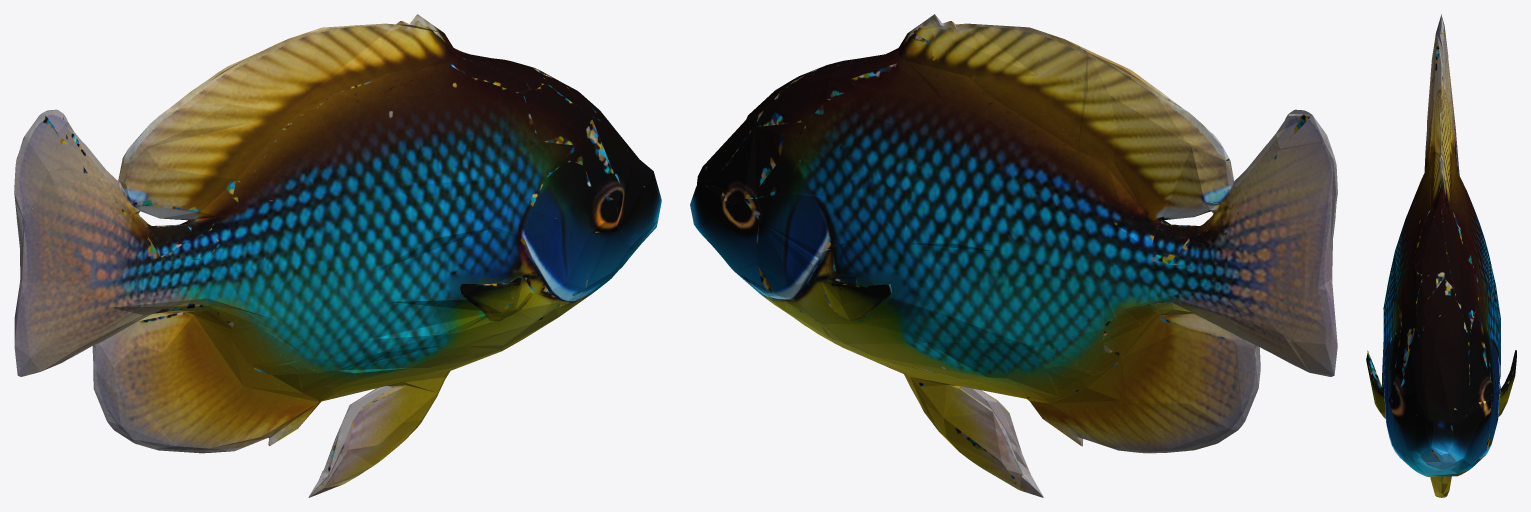
The model's file is fish_0008_smpl23_resized.glb.
3 views of the same model, side by side, from view 1: azimuth 30°, elevation 25°; view 2: azimuth 150°, elevation 25°; view 3: azimuth 270°, elevation 25° (orthographic). The views are drawn at different scales.
Parts seen in each view (by area): view 1: world; view 2: world; view 3: world.
Part boxes in pixels (x1=…): world: x1=14, y1=14, x2=661, y2=497; world: x1=690, y1=14, x2=1337, y2=497; world: x1=1366, y1=14, x2=1516, y2=497.
Size of the model in its own units: 1.99 by 1.38 by 0.4932.
1 material, 1 textured.
